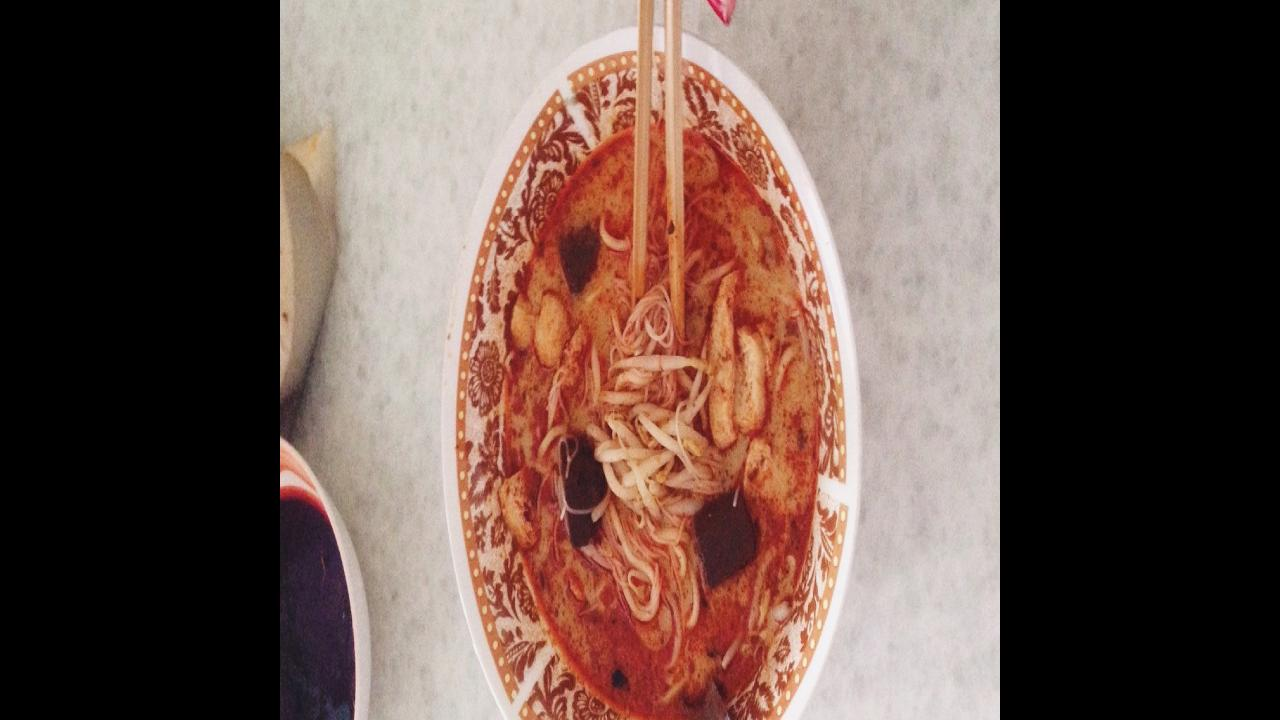chopstick: (630, 0, 688, 322)
